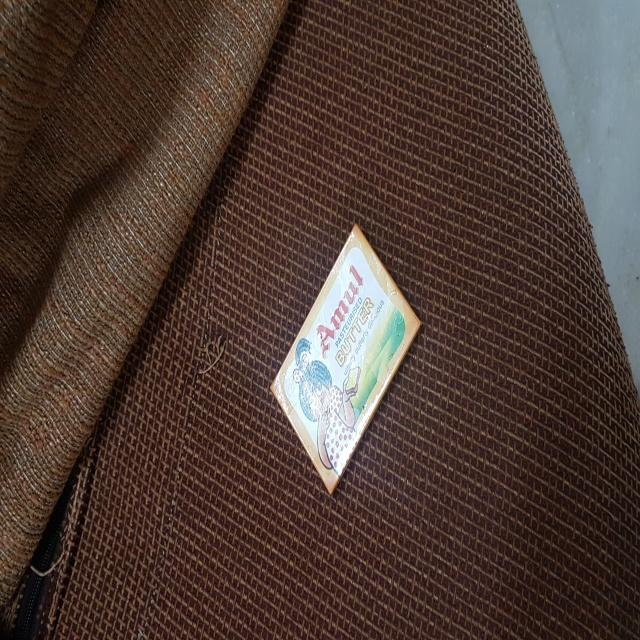butter: (257, 224, 432, 496)
